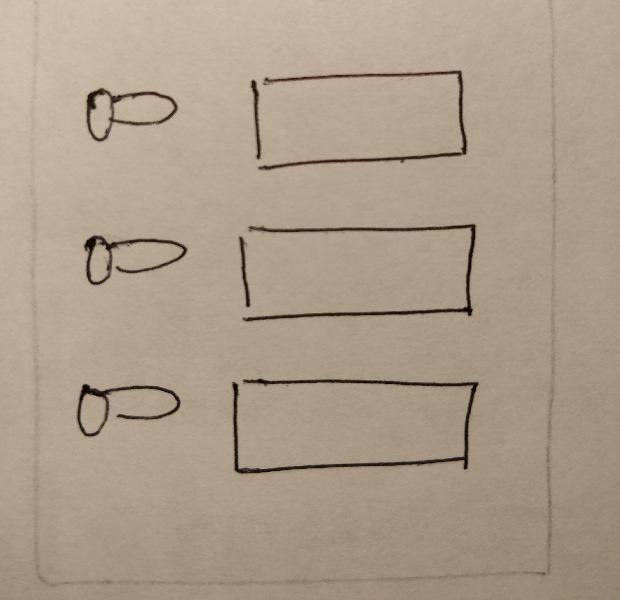switch: (72, 222, 195, 300), (74, 70, 184, 152), (66, 375, 186, 444)
text_input: (215, 364, 493, 484), (223, 209, 484, 333), (237, 63, 477, 180)
